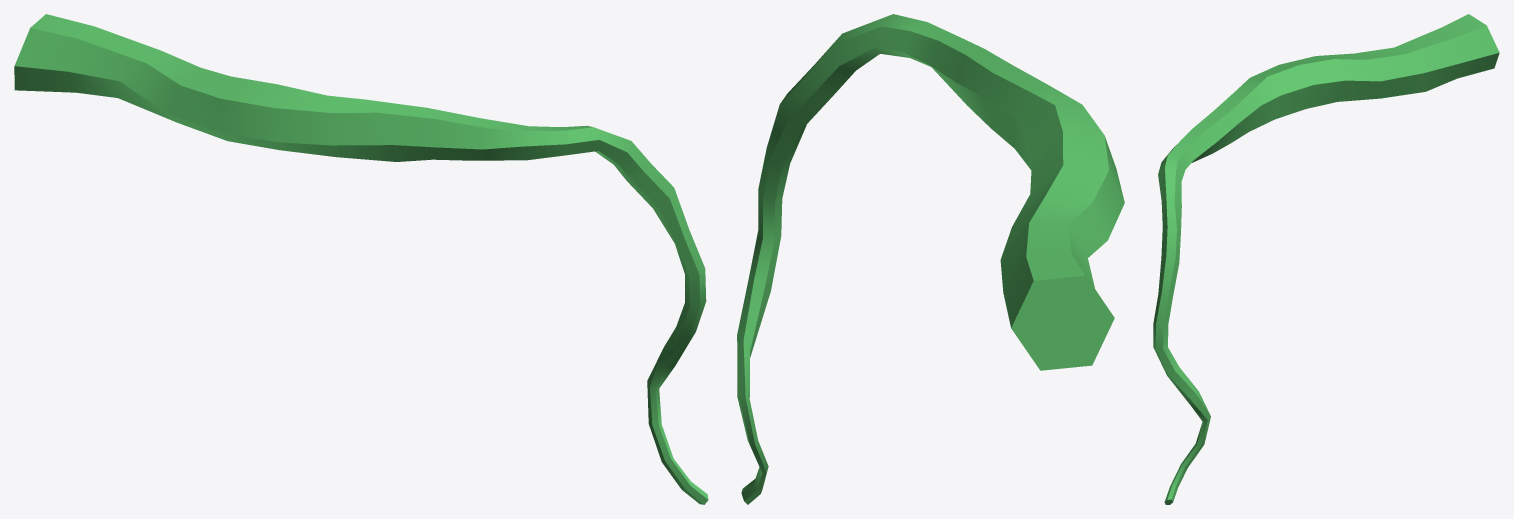
The model's file is roots_solo_A_I.fbx.
The picture shows the model from 3 angles, left to right: view 1: azimuth 30°, elevation 25°; view 2: azimuth 150°, elevation 25°; view 3: azimuth 270°, elevation 25°; orthographic projection. The views are drawn at different scales.
Parts seen in each view (by area): view 1: roots_solo_A_I; view 2: roots_solo_A_I; view 3: roots_solo_A_I.
Part boxes in pixels (x1=…): roots_solo_A_I: x1=14, y1=14, x2=708, y2=504; roots_solo_A_I: x1=737, y1=14, x2=1124, y2=504; roots_solo_A_I: x1=1153, y1=14, x2=1499, y2=504.
Size of the model in its own units: 91.62 by 78.57 by 76.15.
